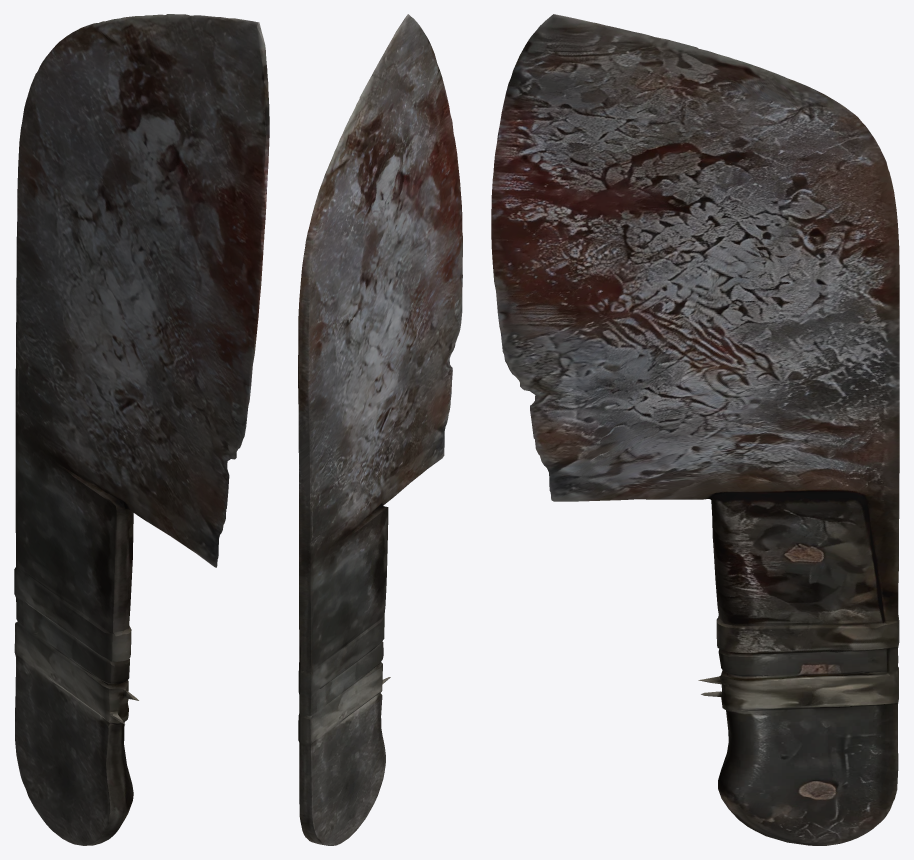
Rendered from cleaver.glb.
3 views of the same model, side by side, from view 1: azimuth 30°, elevation 25°; view 2: azimuth 150°, elevation 25°; view 3: azimuth 270°, elevation 25° (orthographic). The views are drawn at different scales.
Visible parts, largest first — view 1: model; view 2: model; view 3: model.
Boxes of the visible parts, left/top/right/bottom form: model: left=14, top=14, right=269, bottom=845; model: left=298, top=14, right=462, bottom=845; model: left=491, top=14, right=899, bottom=845.
Size of the model in its own units: 0.0411 by 0.56 by 0.2429.
Materials: 1 (1 with a texture image).
